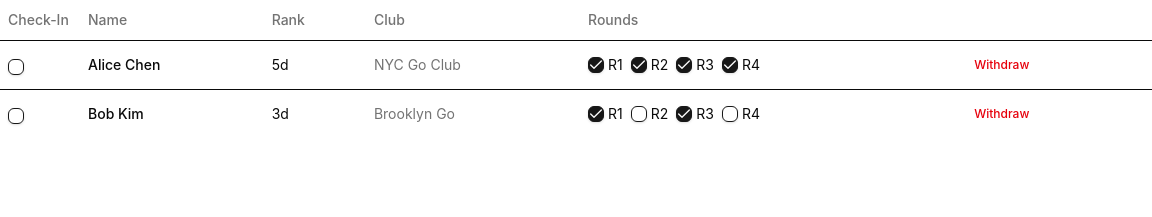
RegistrationTable › round checkboxes › clears changes when Discard is clicked
// Uncheck R4 for Alice
Click the checkbox named "R4 for Alice Chen" at (730, 64), box 722,56 -> 738,72
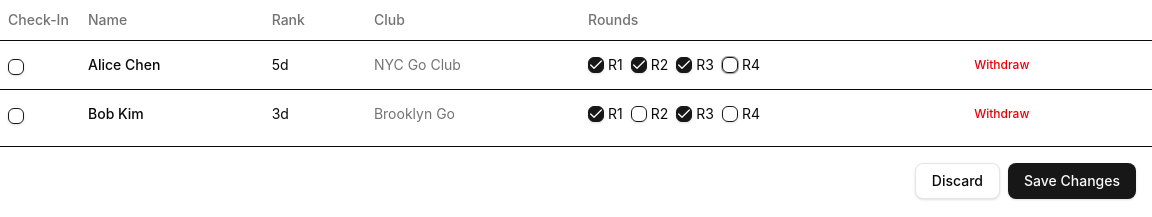
Check: the checkbox named "R4 for Alice Chen" is not checked, box 722,56 -> 738,72
Check: the button "Save Changes" is shown, box 1008,162 -> 1136,198
// Click discard
Click the button "Discard" at (957, 180), box 915,162 -> 1000,198
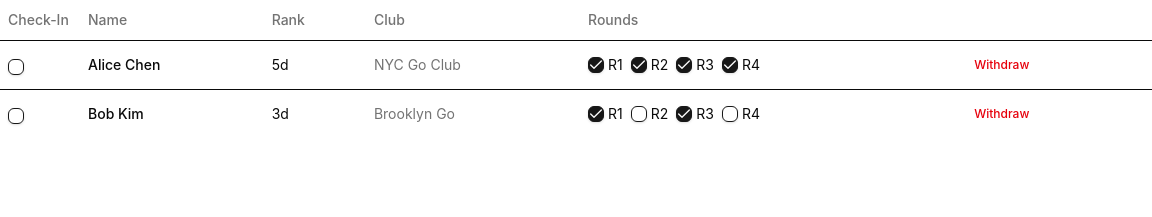
Check: the button "Save Changes" is gone
